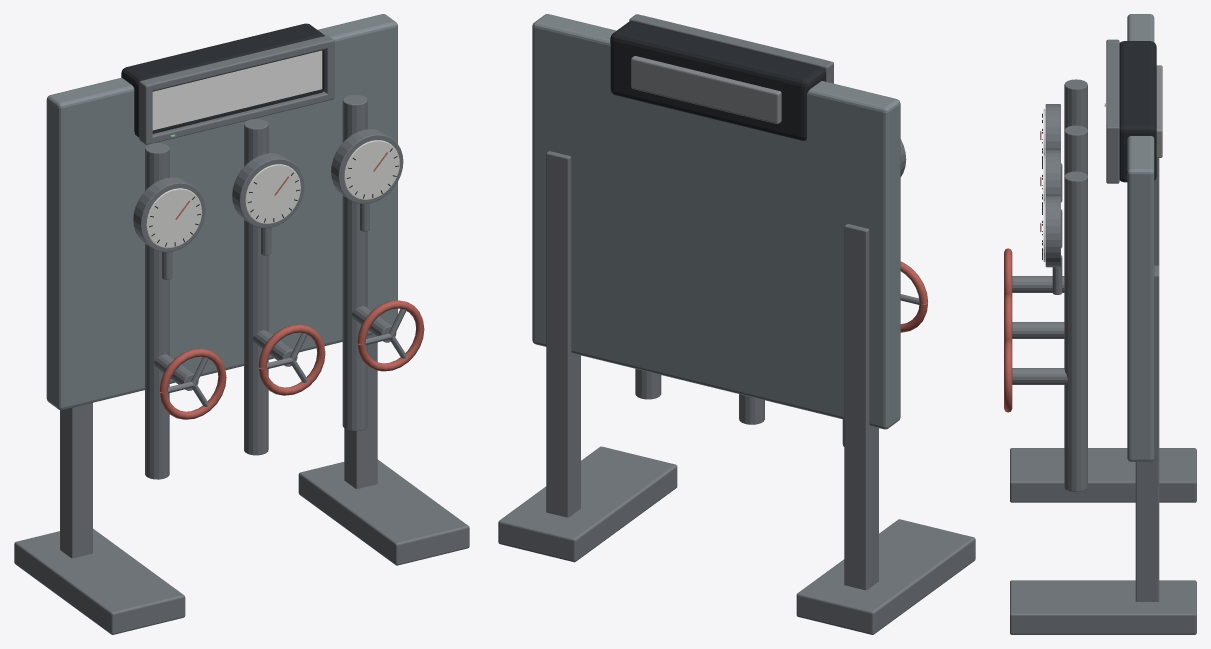
Rendered from BC_UpperValveStation.fbx.
The picture shows the model from 3 angles, left to right: view 1: azimuth 30°, elevation 25°; view 2: azimuth 150°, elevation 25°; view 3: azimuth 270°, elevation 25°; orthographic projection. The views are drawn at different scales.
Parts seen in each view (by area): view 1: BC_UpperValveStation; view 2: BC_UpperValveStation; view 3: BC_UpperValveStation.
Boxes of the visible parts, x1=… form: BC_UpperValveStation: x1=14, y1=14, x2=469, y2=634; BC_UpperValveStation: x1=498, y1=14, x2=975, y2=634; BC_UpperValveStation: x1=1004, y1=14, x2=1196, y2=634.
Bounding box in the file's own units: 116 × 152 × 56.7.
